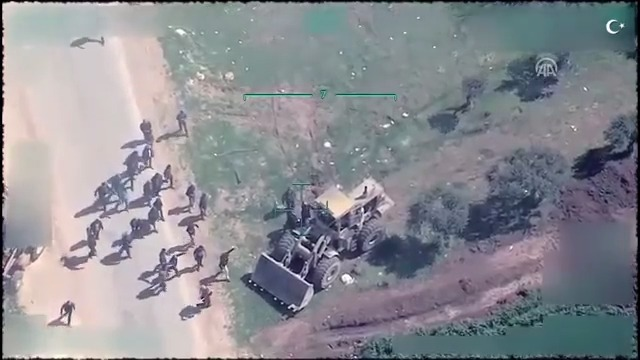arac: (244, 169, 411, 316)
insan: (121, 146, 144, 194), (216, 242, 241, 283), (52, 301, 80, 328), (174, 101, 194, 137), (182, 177, 202, 213), (195, 187, 217, 219), (138, 116, 159, 149), (96, 179, 114, 216), (190, 242, 210, 274), (116, 230, 135, 263), (161, 161, 172, 190)
